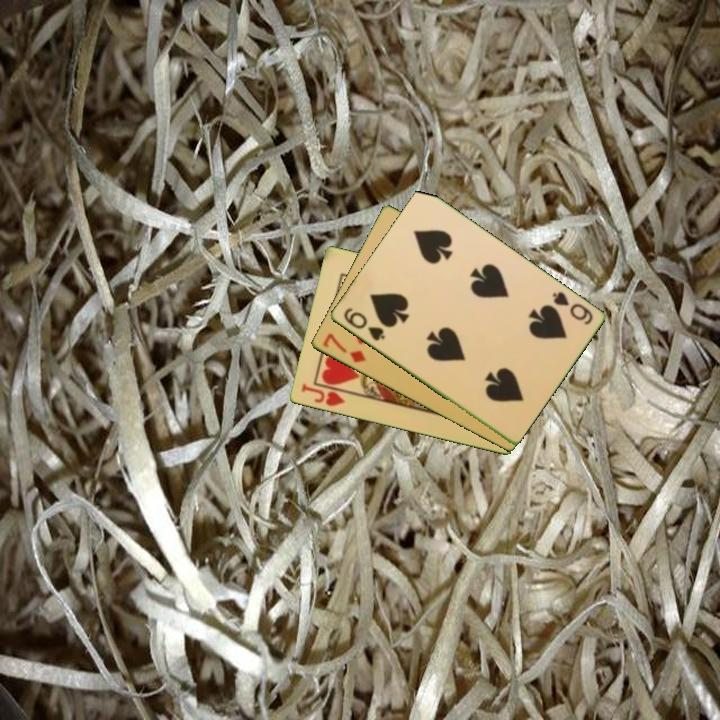6s: (340, 304, 388, 344), (548, 288, 596, 328)
7d: (319, 330, 369, 366)
Jh: (297, 380, 348, 409)
